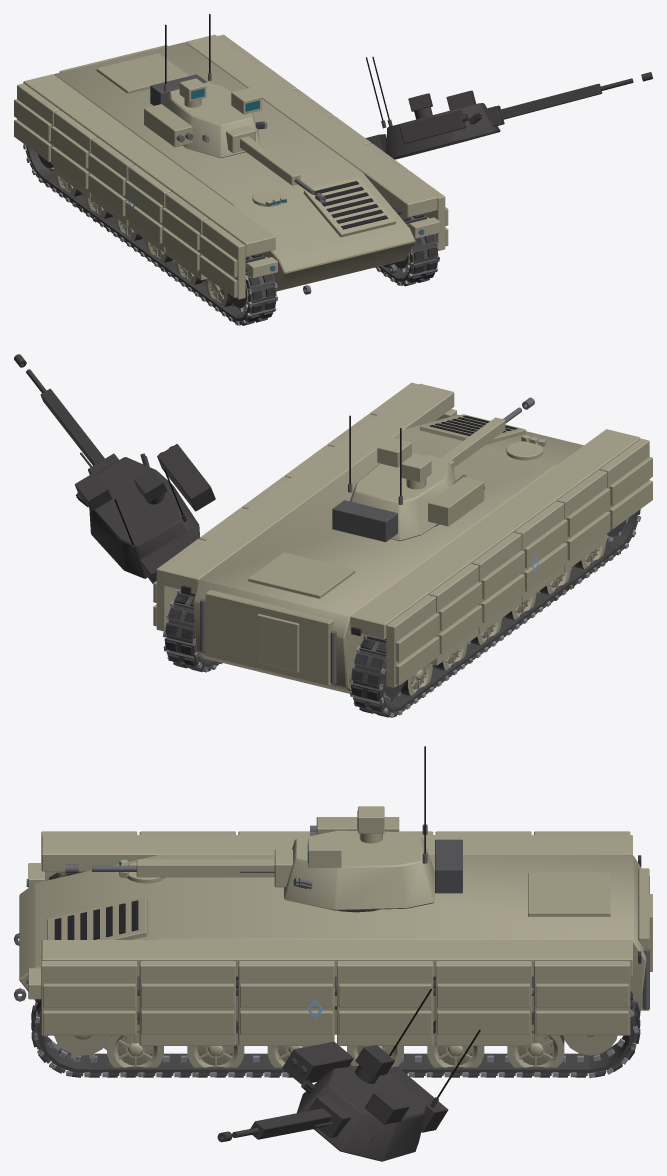
The model's file is ifv__puma_ifv.glb.
The picture shows the model from 3 angles, top to bottom: view 1: azimuth 30°, elevation 25°; view 2: azimuth 150°, elevation 25°; view 3: azimuth 270°, elevation 25°; orthographic projection. The views are drawn at different scales.
Parts seen in each view (by area): view 1: Hull_Mesh, Wreck, Turret_Mesh, Track_L_Mesh, Track_R_Mesh, Gun_Mesh; view 2: Hull_Mesh, Wreck, Turret_Mesh, Track_L_Mesh, Track_R_Mesh, Gun_Mesh, Wheel_L0_Mesh; view 3: Hull_Mesh, Wreck, Turret_Mesh, Track_R_Mesh, Gun_Mesh, Wheel_R0_Mesh, Wheel_R5_Mesh, Wheel_R4_Mesh, Wheel_R1_Mesh, Sprocket_R_Mesh, Idler_R_Mesh.
Part boxes in pixels (bbox=[...]): Hull_Mesh: bbox=[14, 34, 448, 299]; Wreck: bbox=[23, 56, 652, 325]; Turret_Mesh: bbox=[144, 14, 267, 158]; Track_L_Mesh: bbox=[23, 144, 278, 325]; Track_R_Mesh: bbox=[375, 204, 439, 285]; Gun_Mesh: bbox=[226, 125, 326, 203]; Hull_Mesh: bbox=[153, 382, 652, 693]; Wreck: bbox=[14, 354, 640, 716]; Turret_Mesh: bbox=[332, 415, 484, 542]; Track_L_Mesh: bbox=[349, 510, 641, 717]; Track_R_Mesh: bbox=[162, 589, 222, 672]; Gun_Mesh: bbox=[426, 397, 534, 473]; Wheel_L0_Mesh: bbox=[400, 663, 432, 695]; Hull_Mesh: bbox=[14, 831, 652, 1045]; Wreck: bbox=[31, 871, 636, 1161]; Turret_Mesh: bbox=[284, 746, 462, 910]; Track_R_Mesh: bbox=[31, 976, 640, 1078]; Gun_Mesh: bbox=[65, 849, 292, 887]; Wheel_R0_Mesh: bbox=[507, 1012, 564, 1076]; Wheel_R5_Mesh: bbox=[107, 1012, 163, 1076]; Wheel_R4_Mesh: bbox=[187, 1020, 244, 1075]; Wheel_R1_Mesh: bbox=[427, 1020, 484, 1075]; Sprocket_R_Mesh: bbox=[54, 1035, 110, 1059]; Idler_R_Mesh: bbox=[563, 1035, 617, 1055].
Size of what is drawn, in the model's own units: 9.03 by 3.35 by 7.73.
